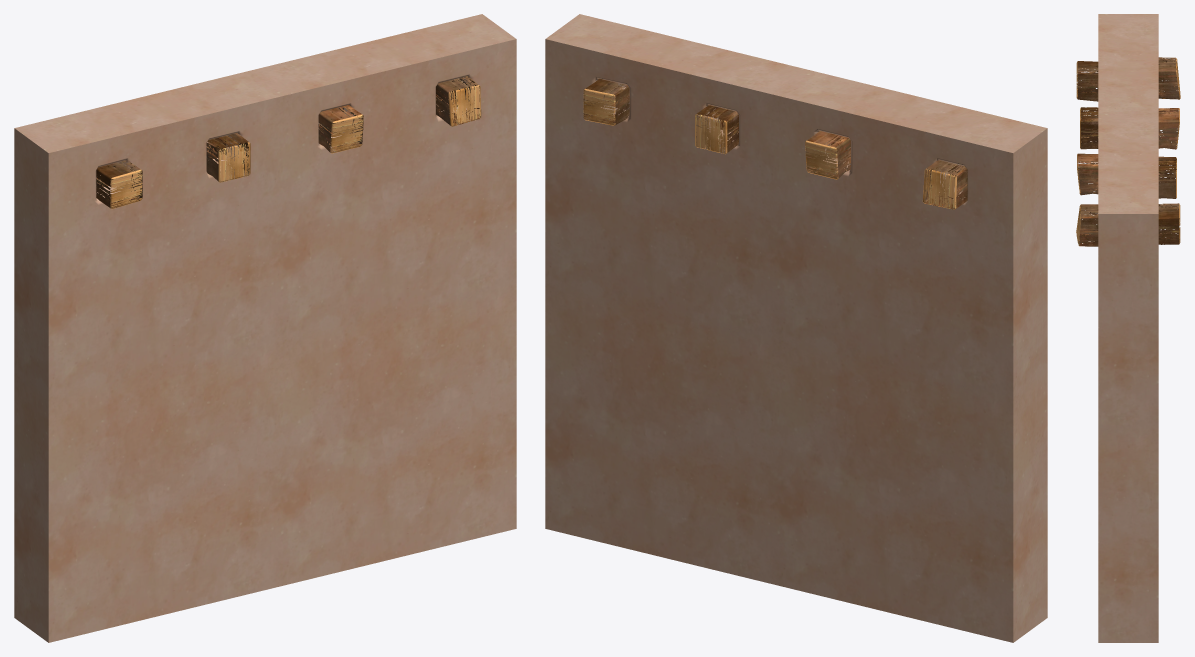
3 views of the same model, side by side, from view 1: azimuth 30°, elevation 25°; view 2: azimuth 150°, elevation 25°; view 3: azimuth 270°, elevation 25° (orthographic). The views are drawn at different scales.
Parts seen in each view (by area): view 1: SM_BB_T4_Wall_Large_02_LOD0; view 2: SM_BB_T4_Wall_Large_02_LOD0; view 3: SM_BB_T4_Wall_Large_02_LOD0.
Part boxes in pixels (x1,y1,x2,y2): SM_BB_T4_Wall_Large_02_LOD0: (14, 14, 516, 642); SM_BB_T4_Wall_Large_02_LOD0: (545, 14, 1047, 642); SM_BB_T4_Wall_Large_02_LOD0: (1076, 14, 1180, 642).
Size of the model in its own units: 3 by 3 by 0.6635.
2 materials, 2 textured.
